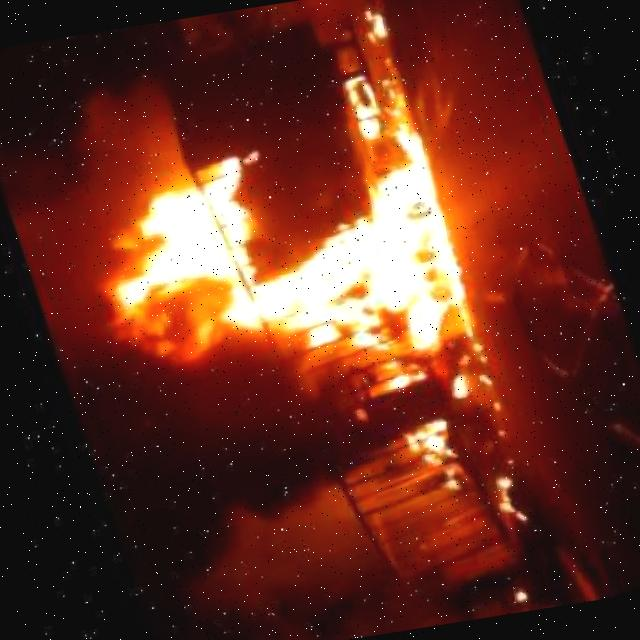fire: (46, 75, 514, 525), (400, 415, 472, 503), (484, 472, 532, 532), (354, 6, 386, 51)
